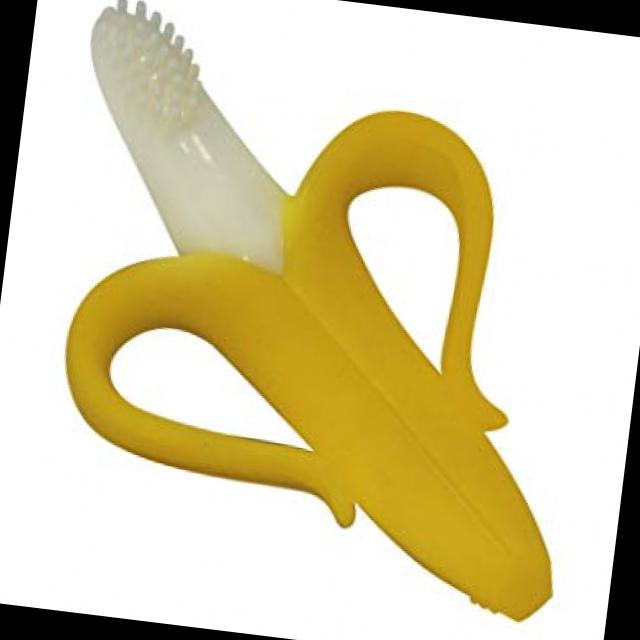banana: (2, 3, 638, 617)
